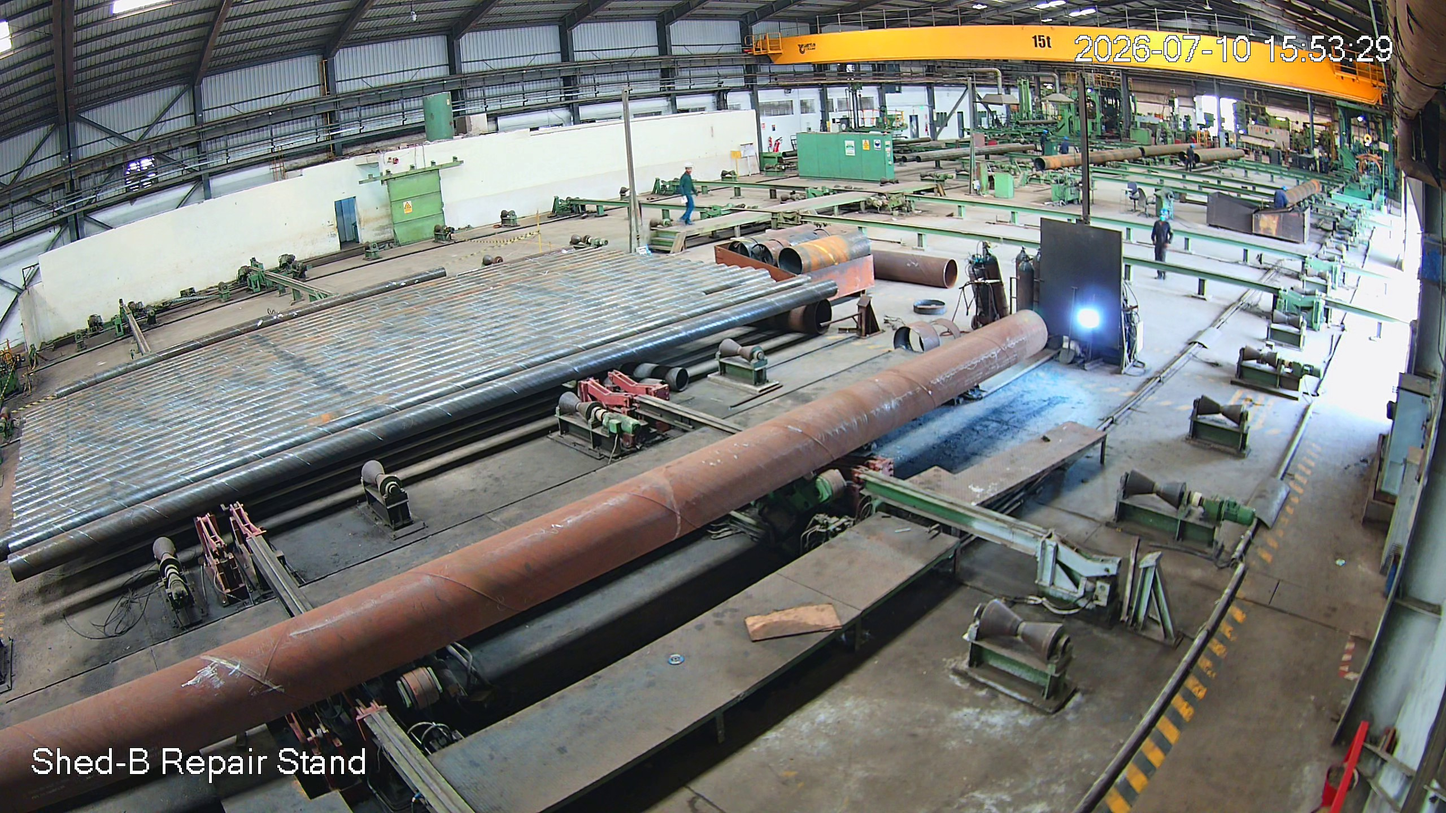Helmet: (1157, 208, 1174, 227), (682, 160, 695, 181)
Person: (1149, 209, 1177, 282), (680, 162, 698, 229)
